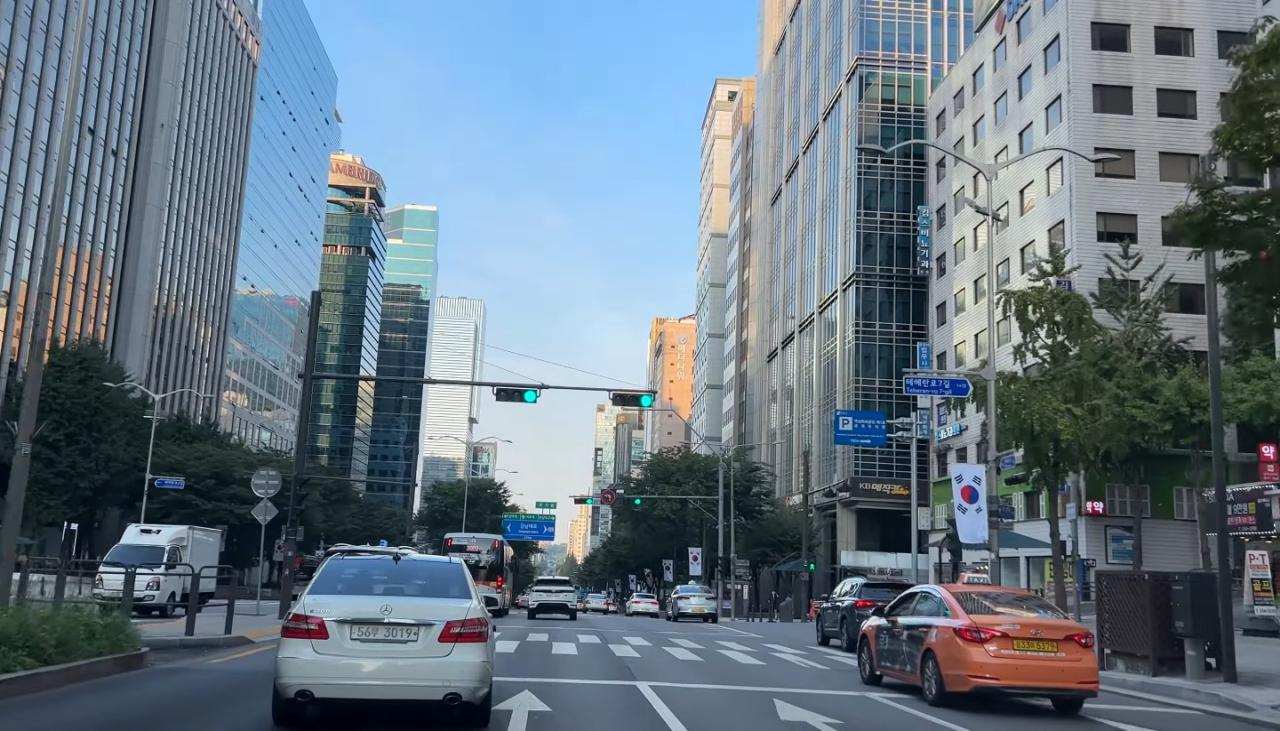Green Light: (639, 394, 654, 408), (522, 390, 538, 403)
